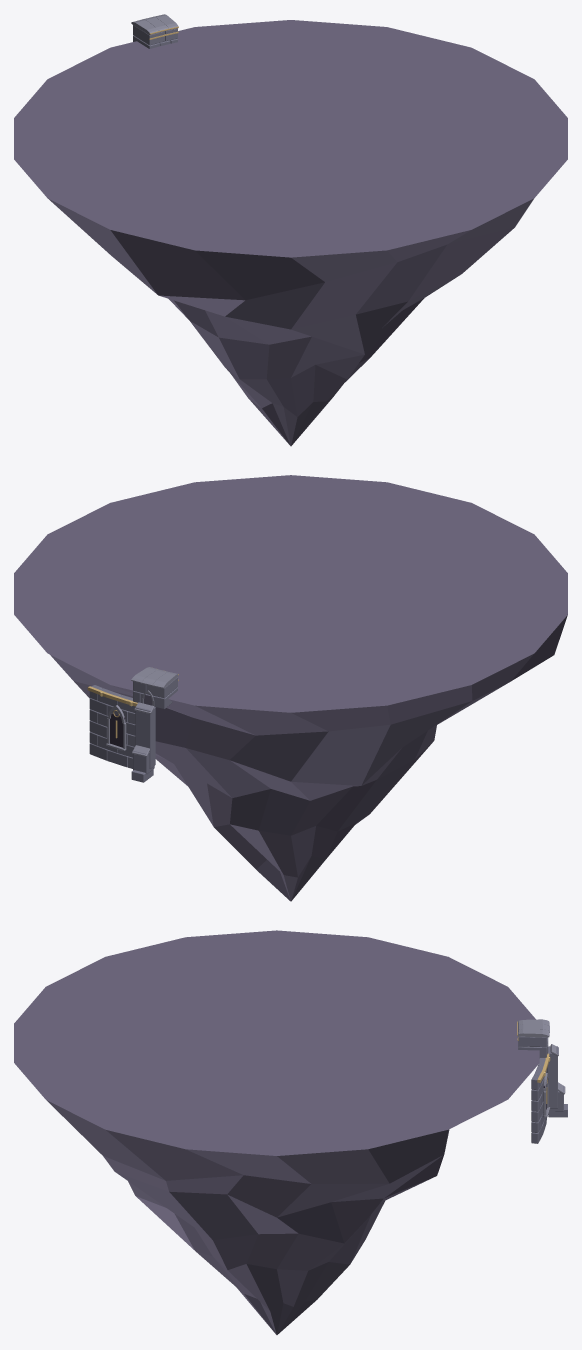
The model's file is Rim.fbx.
The picture shows the model from 3 angles, top to bottom: view 1: azimuth 30°, elevation 25°; view 2: azimuth 150°, elevation 25°; view 3: azimuth 270°, elevation 25°; orthographic projection. The views are drawn at different scales.
Parts seen in each view (by area): view 1: Rock_Spire, Parapet_Module; view 2: Rock_Spire, Drum_Bay, Parapet_Module; view 3: Rock_Spire, Drum_Bay, Parapet_Module.
Boxes of the visible parts, box(x1,y1,x2,y2) form: Rock_Spire: box(14, 20, 567, 446); Parapet_Module: box(131, 14, 178, 48); Rock_Spire: box(14, 475, 567, 901); Drum_Bay: box(87, 685, 155, 782); Parapet_Module: box(131, 667, 178, 709); Rock_Spire: box(14, 930, 539, 1334); Drum_Bay: box(531, 1044, 567, 1143); Parapet_Module: box(517, 1019, 549, 1057).
Size of the model in its own units: 29.8 by 19.02 by 30.92.
